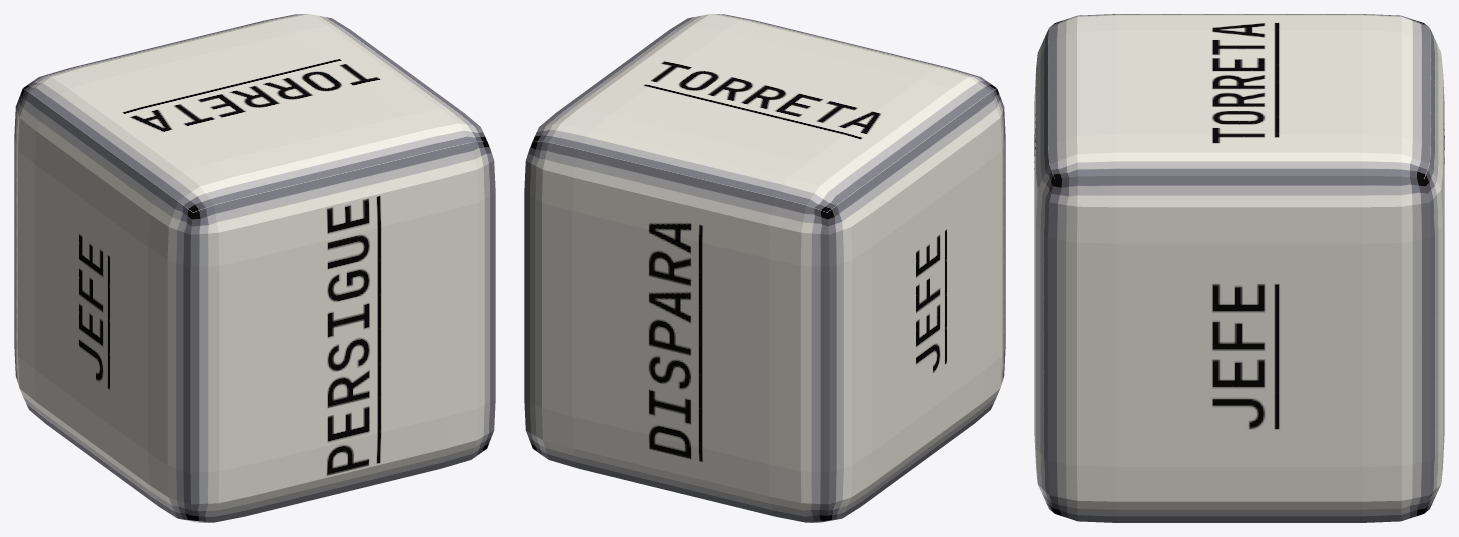
Rendered from Dice Enemy.fbx.
3 renders of one model, left to right at view 1: azimuth 30°, elevation 25°; view 2: azimuth 150°, elevation 25°; view 3: azimuth 270°, elevation 25°, orthographic. The views are drawn at different scales.
Parts seen in each view (by area): view 1: Cube; view 2: Cube; view 3: Cube.
Part boxes in pixels (x1=…): Cube: x1=14, y1=14, x2=495, y2=522; Cube: x1=524, y1=14, x2=1005, y2=522; Cube: x1=1034, y1=14, x2=1444, y2=522.
Bounding box in the file's own units: 200 × 200 × 200.
